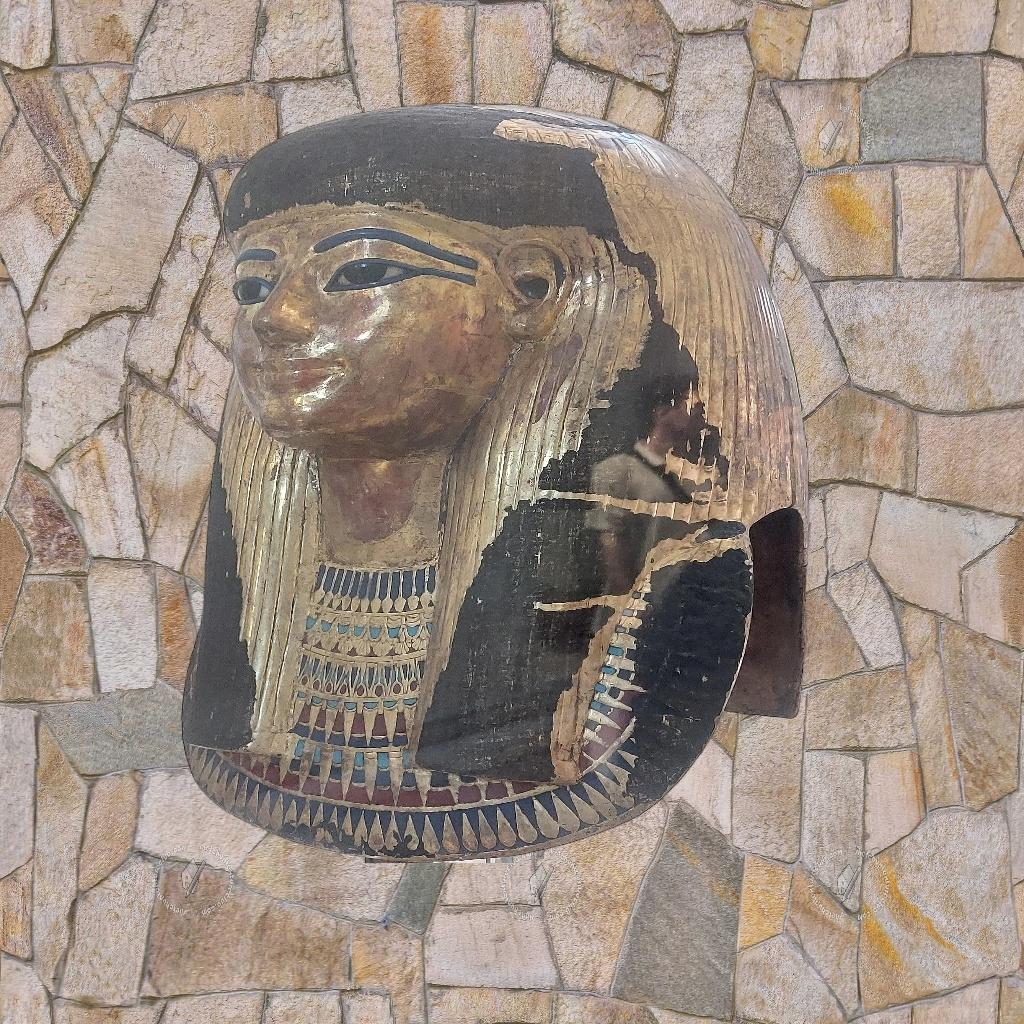Mask of Thuya: (178, 100, 811, 863)
